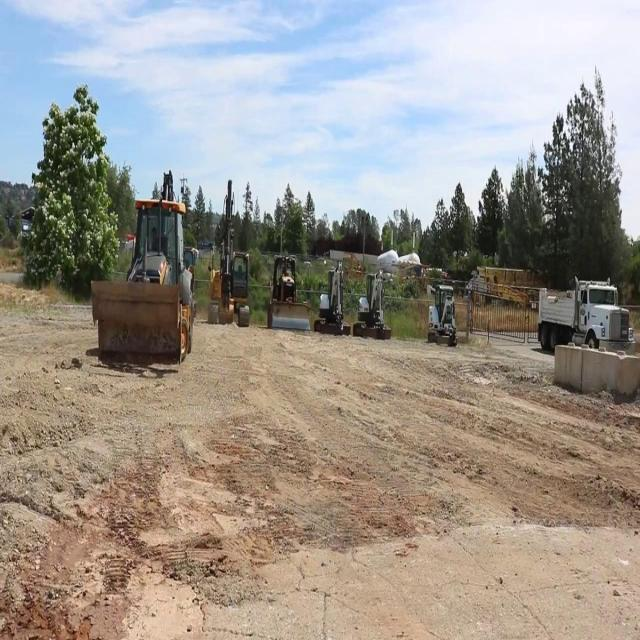buldozerpayloadergrader: (266, 252, 312, 330)
dump_truck: (534, 274, 632, 354)
excavator: (208, 180, 252, 326), (354, 268, 390, 336), (316, 262, 348, 334), (427, 278, 457, 343)
